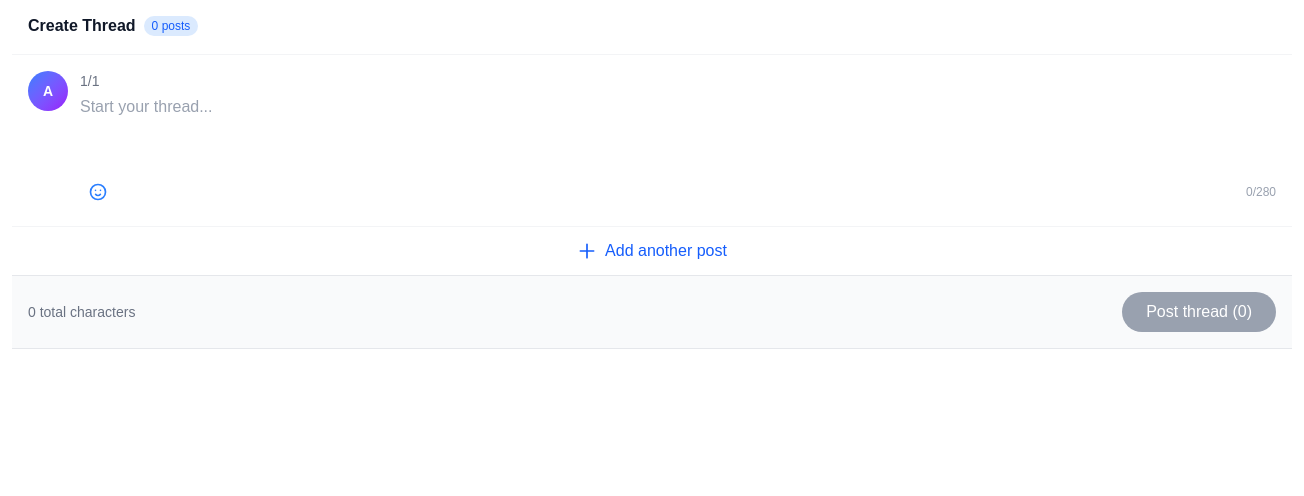
Test: ThreadComposer › add and remove posts › cannot add beyond maxPosts
Step 1. Click the button "Add another post" → (652, 250), box top-left (12, 226), bottom-right (1292, 275)
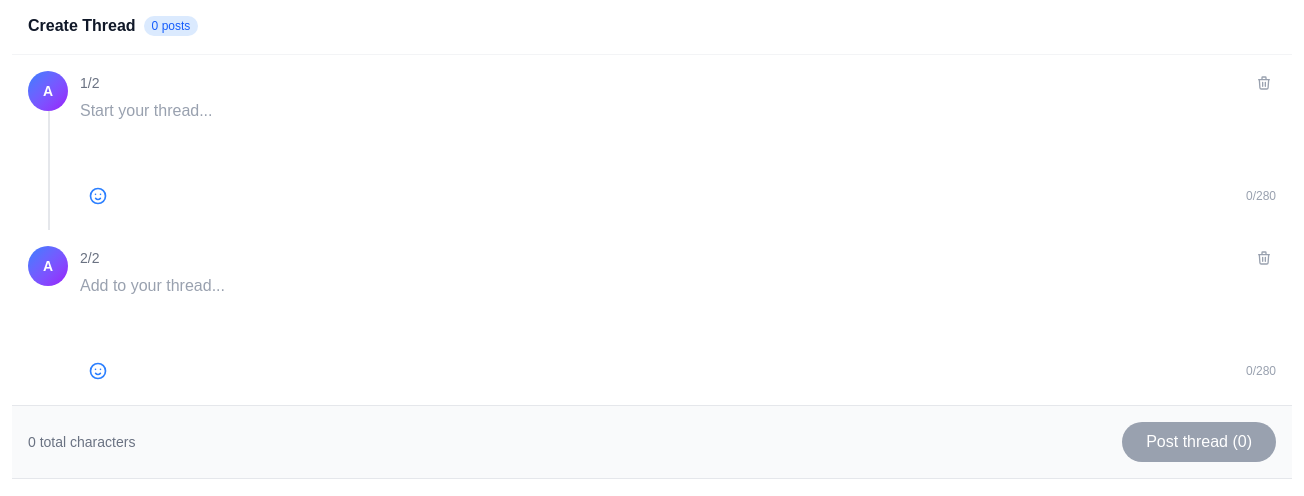
Expected: the button "Add another post" is gone
